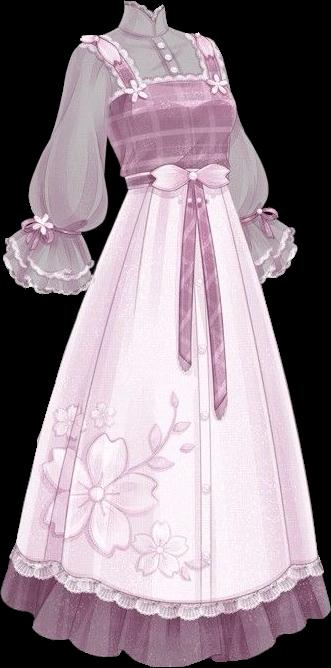Bodice: (79, 1, 236, 190)
Hemline: (0, 590, 330, 667), (10, 547, 323, 606)
Neckline: (101, 35, 210, 87), (126, 0, 166, 25), (115, 26, 171, 43)
Skirt: (1, 183, 330, 666)
Sleeve: (3, 47, 111, 294)
Sleeveline: (79, 41, 117, 114), (30, 214, 87, 235)
Waistline: (127, 176, 227, 195)
